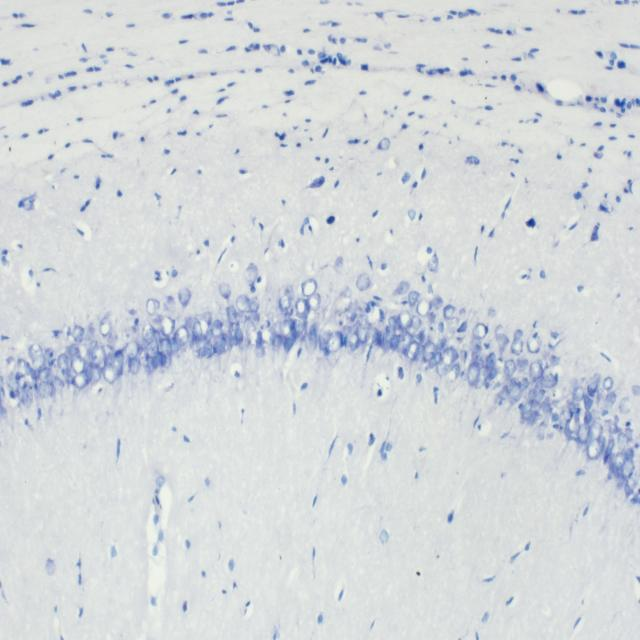neuron: (603, 426, 615, 464), (564, 412, 581, 438), (319, 320, 333, 351), (326, 328, 341, 356), (357, 320, 373, 345), (173, 325, 190, 347), (243, 264, 259, 287), (422, 341, 438, 364), (305, 324, 317, 354), (102, 362, 118, 384), (445, 362, 461, 384), (508, 383, 524, 405), (90, 345, 106, 366), (528, 361, 544, 382), (160, 316, 175, 338), (401, 330, 414, 355), (72, 370, 89, 389), (416, 297, 432, 317), (526, 334, 542, 354), (474, 367, 488, 389), (590, 419, 604, 441), (355, 272, 371, 291), (442, 346, 456, 367), (587, 439, 601, 460), (621, 458, 635, 479), (468, 362, 480, 386), (496, 333, 509, 355), (302, 278, 317, 297), (6, 373, 20, 393), (398, 310, 412, 330), (406, 340, 420, 360), (521, 400, 534, 421), (577, 422, 590, 443), (114, 349, 124, 376), (306, 293, 321, 311), (483, 352, 497, 371), (71, 325, 84, 345), (99, 317, 112, 337), (126, 340, 139, 360), (617, 432, 630, 452), (17, 385, 29, 406), (57, 353, 69, 374), (71, 356, 85, 374), (147, 336, 159, 357), (142, 321, 154, 342), (473, 322, 487, 340), (237, 294, 250, 313), (613, 451, 626, 470), (348, 330, 359, 352), (106, 330, 118, 350), (179, 286, 191, 306), (211, 319, 223, 339), (213, 338, 228, 354), (29, 344, 43, 361), (32, 354, 46, 371), (428, 351, 442, 368), (603, 391, 617, 408), (21, 390, 34, 408), (234, 321, 243, 347), (383, 324, 396, 342), (38, 380, 50, 399), (65, 343, 80, 358), (218, 282, 231, 299), (279, 295, 292, 312), (619, 396, 632, 413), (390, 332, 401, 352), (248, 296, 260, 314), (270, 320, 282, 338), (295, 298, 307, 316), (511, 338, 523, 356), (504, 359, 516, 377), (38, 366, 52, 381), (544, 373, 558, 388), (226, 305, 237, 324), (159, 338, 172, 354), (85, 361, 94, 384), (128, 357, 140, 374), (444, 303, 456, 320), (572, 385, 584, 402), (584, 391, 594, 411), (587, 380, 598, 398), (430, 295, 443, 310), (150, 353, 162, 369), (410, 316, 422, 332), (408, 290, 420, 306), (372, 328, 382, 347), (122, 327, 133, 344), (396, 281, 410, 294), (428, 254, 438, 272), (516, 358, 528, 373), (54, 377, 65, 393), (437, 360, 448, 376), (146, 298, 156, 315), (193, 321, 203, 338), (282, 319, 292, 336), (334, 255, 344, 272), (230, 328, 238, 349), (388, 316, 400, 330), (436, 336, 448, 350), (293, 319, 304, 334), (92, 364, 101, 382), (162, 353, 172, 369), (204, 338, 212, 358), (489, 364, 499, 380), (549, 354, 560, 368), (603, 376, 613, 391), (65, 366, 73, 384), (253, 346, 265, 358), (248, 312, 260, 324), (196, 333, 207, 346), (44, 348, 54, 362), (284, 285, 294, 299), (171, 336, 179, 353), (0, 406, 8, 422), (17, 358, 26, 372), (625, 447, 634, 461), (130, 324, 139, 337), (427, 311, 436, 324), (631, 384, 640, 397), (256, 330, 262, 349), (343, 324, 352, 336), (584, 411, 592, 424), (550, 413, 560, 423), (514, 328, 523, 338), (437, 321, 444, 333), (350, 311, 357, 322)
